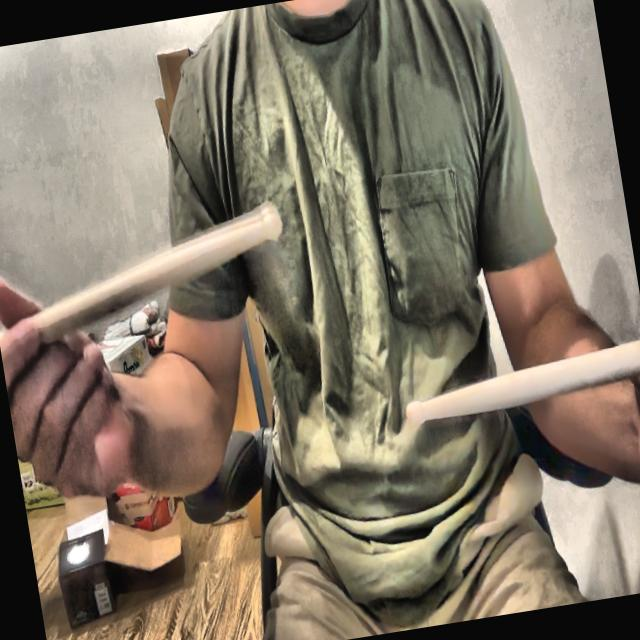Drumstick-Heads: (252, 200, 290, 250), (402, 394, 432, 430)
